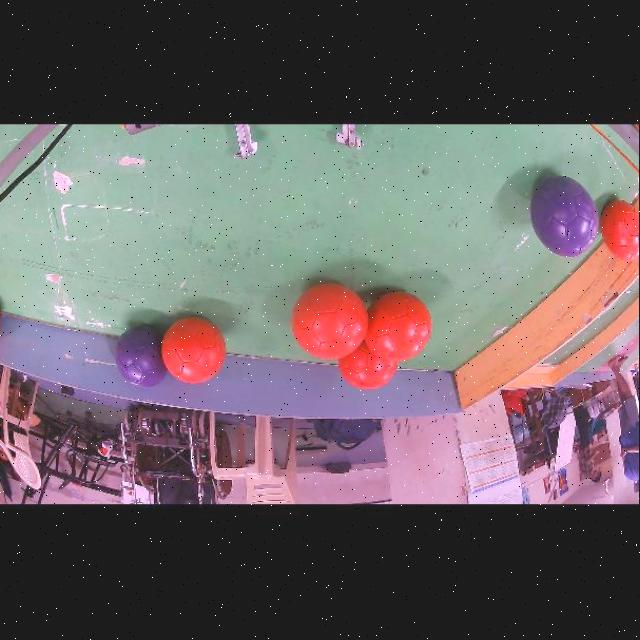P: (530, 176, 600, 258), (116, 326, 167, 388)
R: (291, 284, 369, 360), (365, 293, 432, 363), (162, 318, 227, 385), (339, 341, 398, 390), (601, 201, 640, 262)
